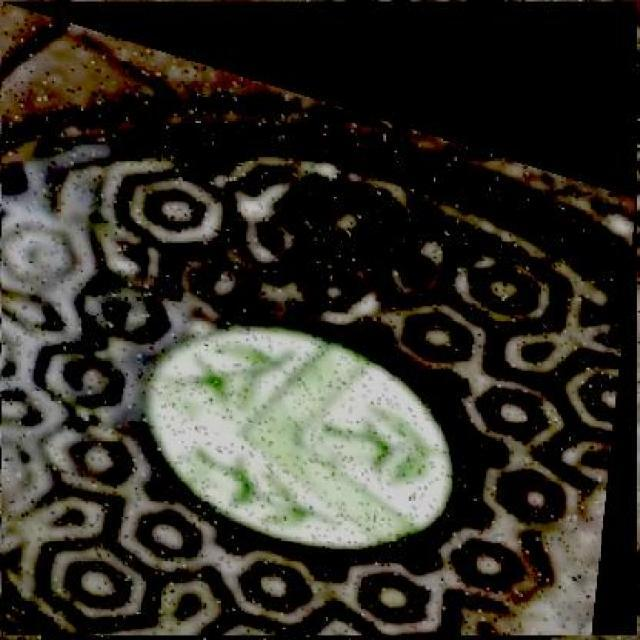Manhole: (1, 2, 637, 636)
